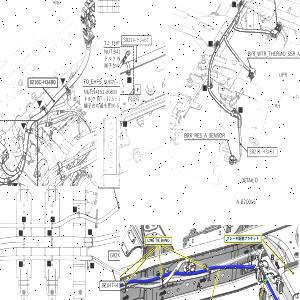PartNumber: (123, 36, 149, 43), (29, 79, 56, 85), (93, 89, 118, 95), (101, 282, 120, 288), (110, 252, 120, 258), (113, 48, 120, 54)
